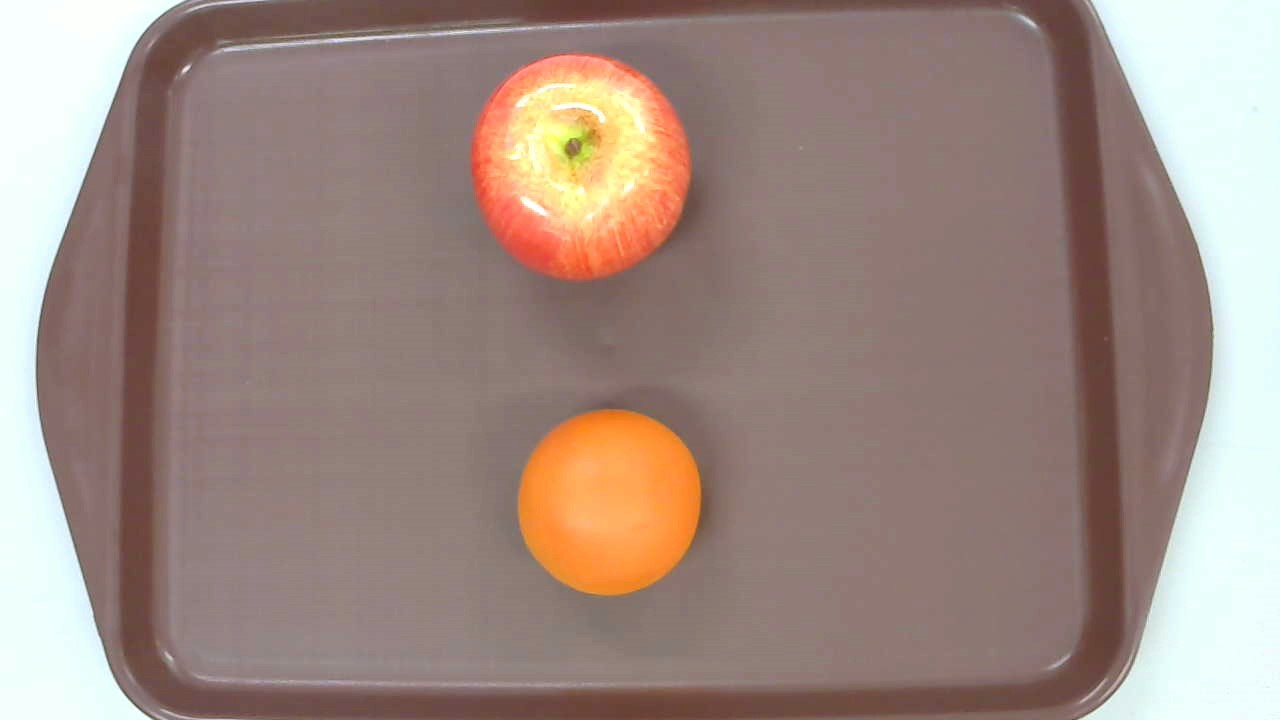bun: (518, 410, 701, 597)
red apple: (469, 52, 690, 280)
